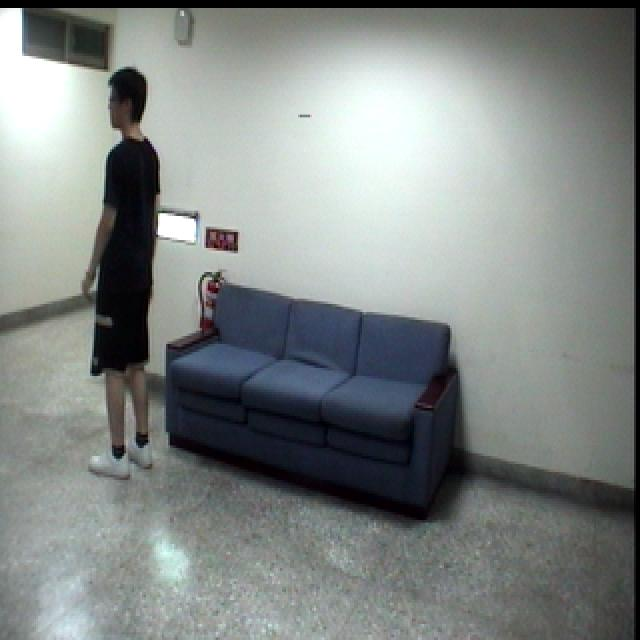stand: (66, 63, 166, 487)
